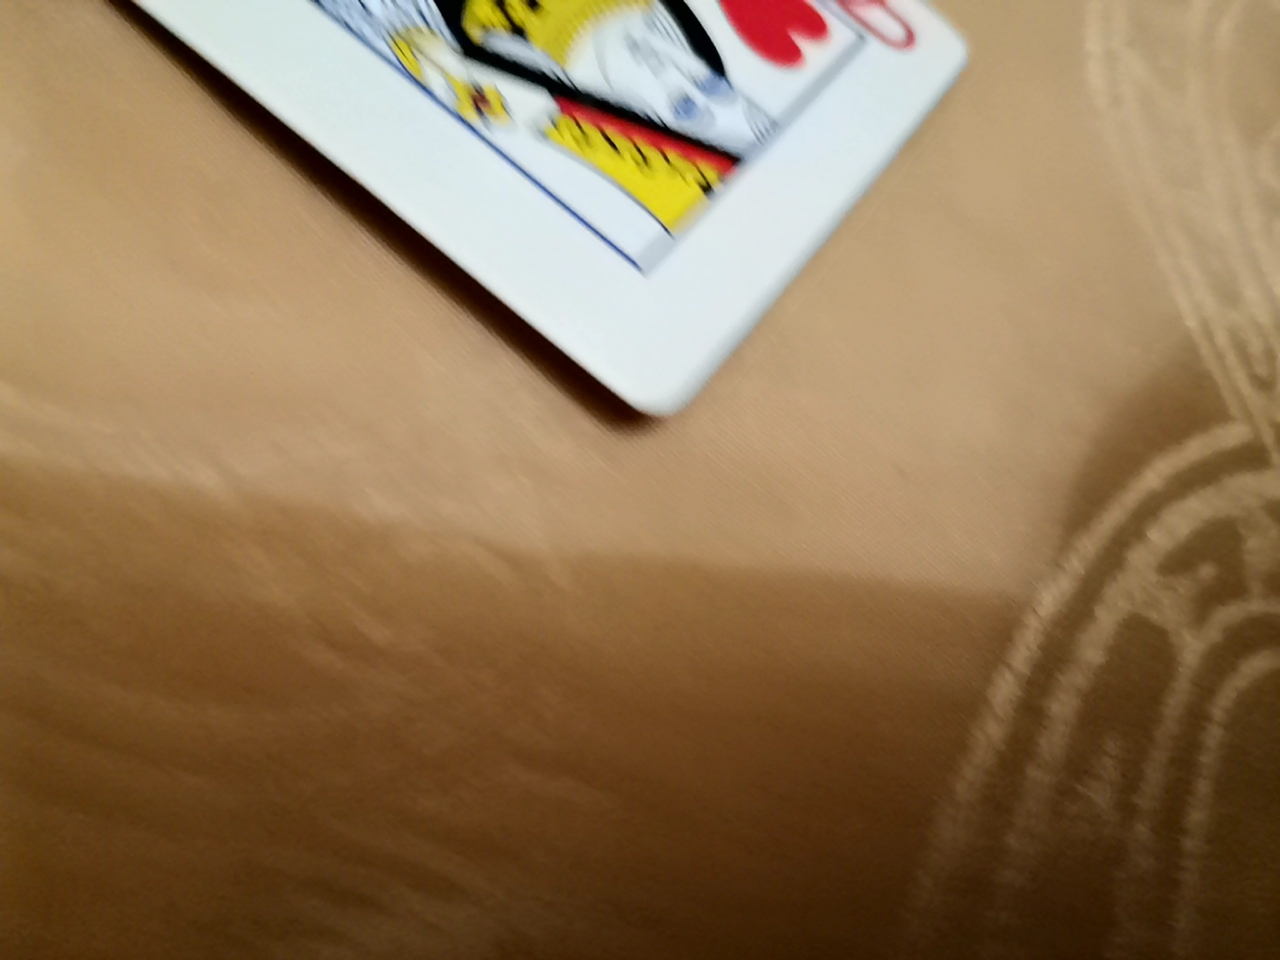hx q: (8, 4, 1016, 537)
